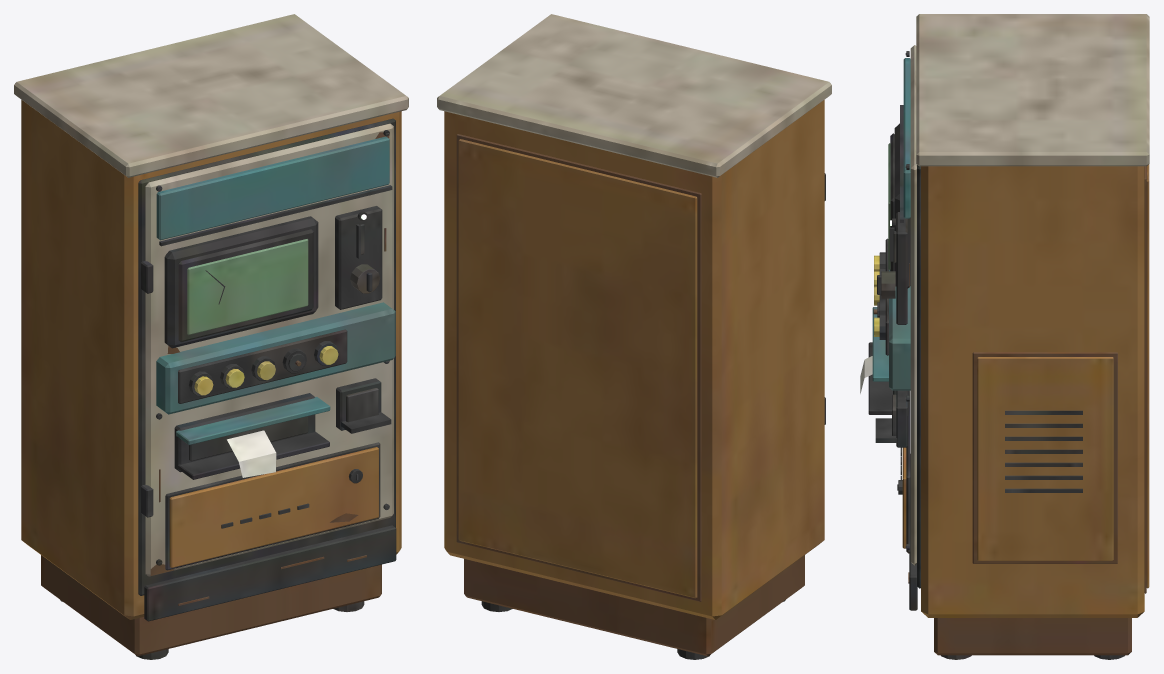
The model's file is RE01_ticket_vending_machine.glb.
The picture shows the model from 3 angles, left to right: view 1: azimuth 30°, elevation 25°; view 2: azimuth 150°, elevation 25°; view 3: azimuth 270°, elevation 25°; orthographic projection.
Visible parts, largest first — view 1: Squashed rubber foot; view 2: Squashed rubber foot; view 3: Squashed rubber foot.
Boxes of the visible parts, left/top/right/bottom form: Squashed rubber foot: left=14, top=14, right=408, bottom=659; Squashed rubber foot: left=437, top=14, right=831, bottom=659; Squashed rubber foot: left=860, top=14, right=1149, bottom=659.
Bounding box in the file's own units: 1.05 × 1.8 × 0.905.
11 materials, 10 textured.
